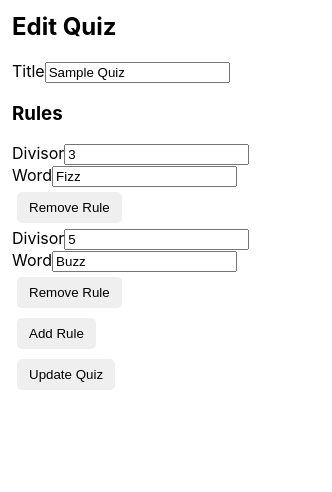
EditQuizPage › adds a new rule
Expected: the heading "Rules" is shown, [12,102,63,124]
Click the button "Add Rule" at (56, 334), box [17,318,96,349]
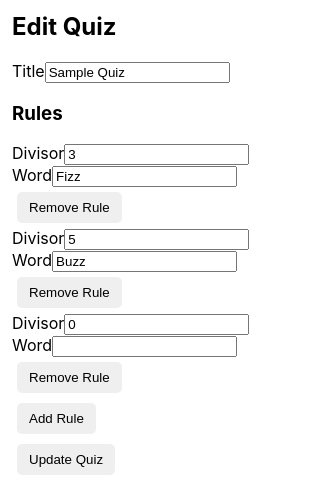
Expected: the number of number fields labelled "Divisor" is 3, [64,144,249,165]; [64,229,249,250]; [64,314,249,335]
Expected: the number of fields labelled "Word" is 3, [52,166,237,187]; [52,251,237,272]; [52,336,237,357]
